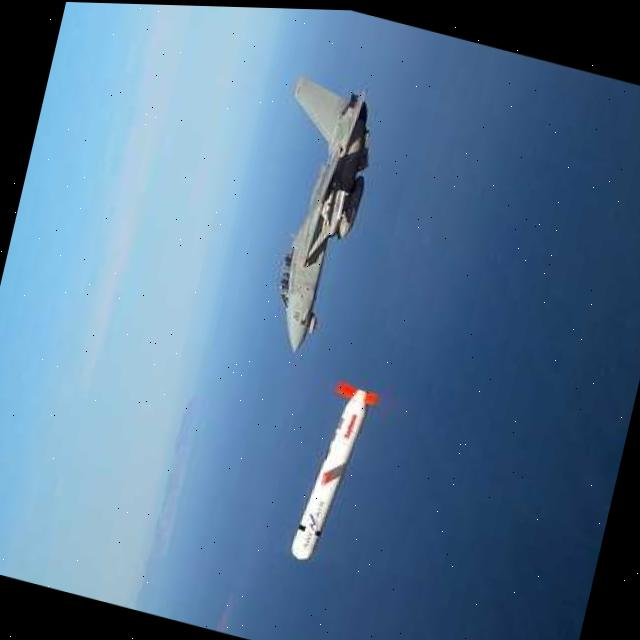missile: (284, 373, 381, 571)
